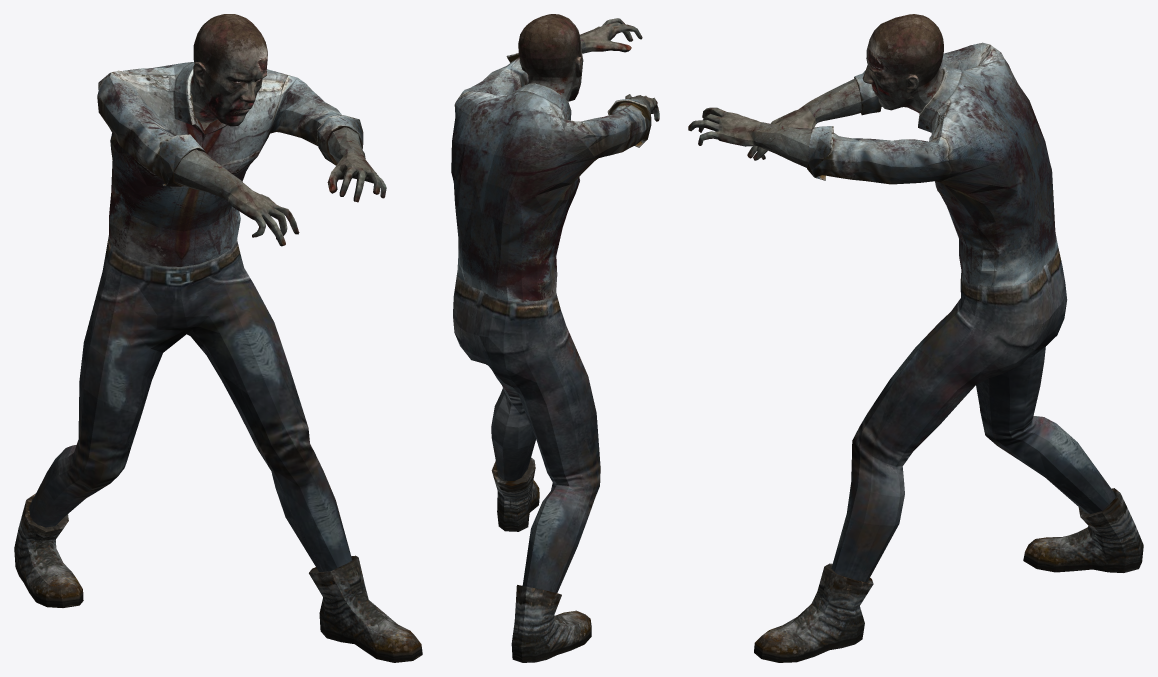
Rendered from zombie.glb.
The picture shows the model from 3 angles, left to right: view 1: azimuth 30°, elevation 25°; view 2: azimuth 150°, elevation 25°; view 3: azimuth 270°, elevation 25°; orthographic projection. The views are drawn at different scales.
Visible parts, largest first — view 1: pants, tors, boots, head, hands; view 2: tors, pants, boots, head, hands; view 3: pants, tors, boots, head, hands.
Boxes of the visible parts, x1=… form: pants: x1=29, y1=235, x2=352, y2=571; tors: x1=97, y1=62, x2=365, y2=266; boots: x1=14, y1=493, x2=422, y2=662; head: x1=190, y1=14, x2=267, y2=130; hands: x1=228, y1=152, x2=386, y2=246; tors: x1=451, y1=38, x2=651, y2=302; pants: x1=453, y1=273, x2=600, y2=592; boots: x1=491, y1=457, x2=591, y2=662; head: x1=518, y1=14, x2=583, y2=101; hands: x1=580, y1=18, x2=659, y2=121; pants: x1=831, y1=246, x2=1115, y2=582; tors: x1=753, y1=42, x2=1057, y2=286; boots: x1=754, y1=488, x2=1143, y2=662; head: x1=862, y1=14, x2=943, y2=113; hands: x1=688, y1=105, x2=816, y2=160.
Size of the model in its own units: 0.648 by 1.61 by 1.12.
5 materials, 5 textured.
